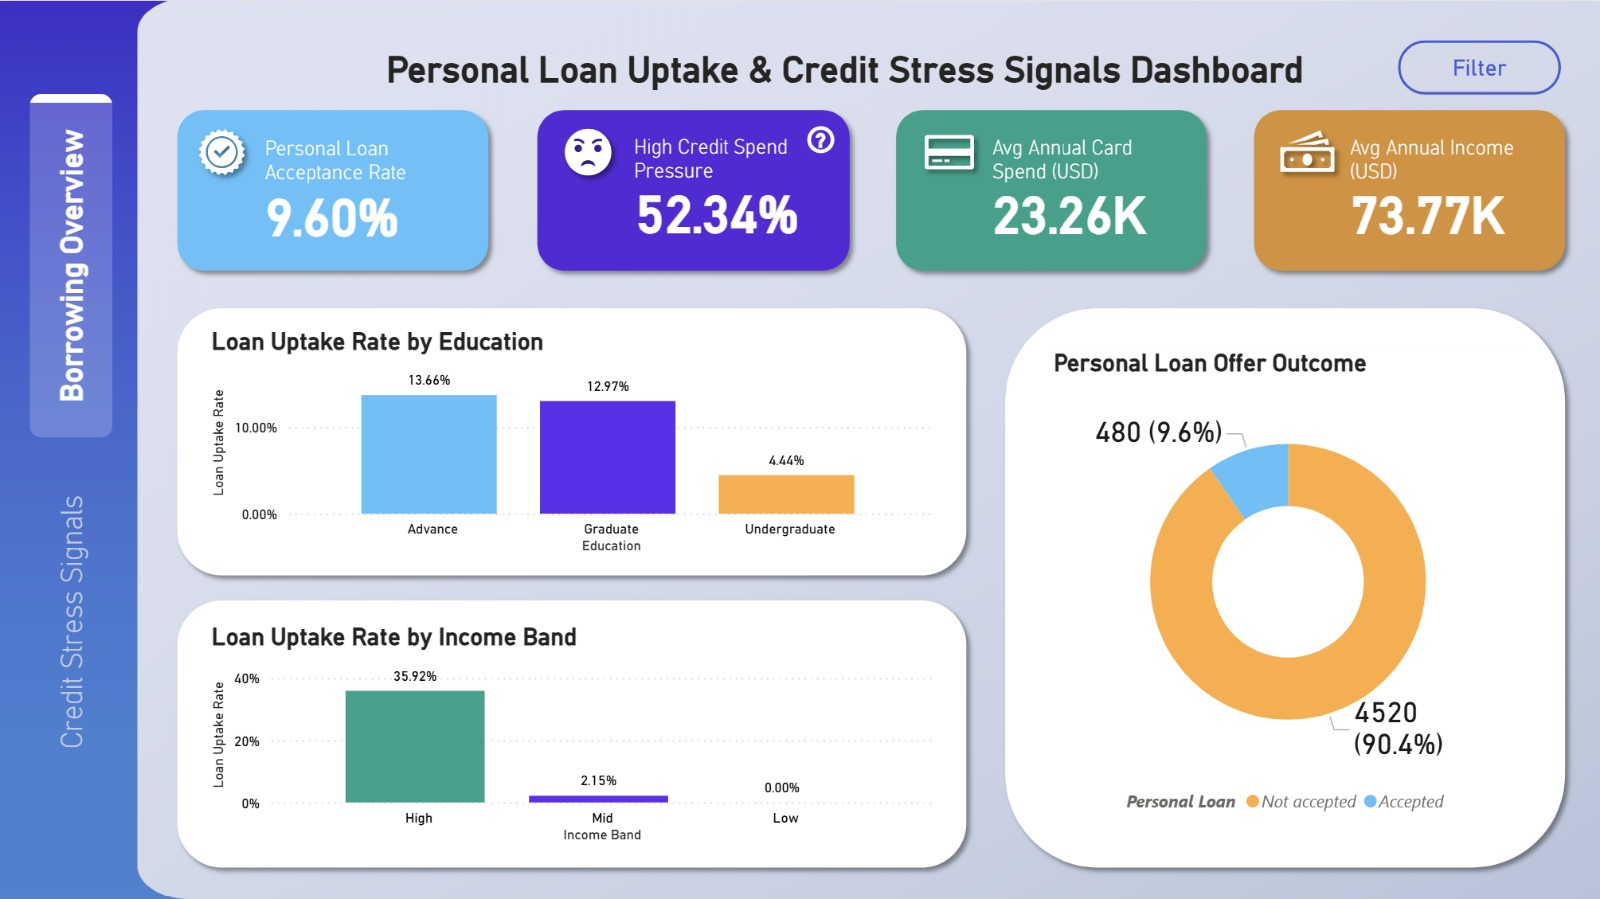

What the dashboard file says about the page in this screenshot:
{"tool":"powerbi","page":{"name":"Borrowing Overview","canvas":[1280,720],"ordinal":0},"visuals":[{"type":"cardVisual","fields":{"Data":["Bank_Personal_Loan_Modelling(1).Loan Uptake Rate"]},"box":[183.3,91.7,198.3,121.7],"z":0},{"type":"cardVisual","fields":{"Data":["Bank_Personal_Loan_Modelling(1).Avg Income"]},"box":[1048.3,90,196.7,121.7],"z":1000},{"type":"cardVisual","fields":{"Data":["Bank_Personal_Loan_Modelling(1).Avg CC Annual"]},"box":[763.3,90,196.7,121.7],"z":2000},{"type":"cardVisual","title":"Annual card spend >30% of income","fields":{"Data":["Bank_Personal_Loan_Modelling(1).Pct High CC Pressure"]},"box":[476.7,86.7,198.3,125],"z":3000},{"type":"donutChart","title":"Personal Loan Offer Outcome","fields":{"Category":["Bank_Personal_Loan_Modelling(1).Loan Label"],"Y":["Bank_Personal_Loan_Modelling(1).Customers"]},"box":[835,276.7,385,380],"z":4000},{"type":"clusteredColumnChart","fields":{"Y":["Bank_Personal_Loan_Modelling(1).Loan Uptake Rate"],"Category":["Bank_Personal_Loan_Modelling(1).Income Band"]},"box":[165,495,585,180],"z":5000},{"type":"clusteredColumnChart","fields":{"Category":["Bank_Personal_Loan_Modelling(1).Education"],"Y":["Bank_Personal_Loan_Modelling(1).Loan Uptake Rate"]},"box":[164.5,259.7,585.5,185.5],"z":6000},{"type":"pageNavigator","box":[24.2,74.2,66.1,558.1],"z":7000},{"type":"textbox","box":[283.9,32.3,780.6,54.8],"z":8000},{"type":"actionButton","box":[1115,31.7,130,43.3],"z":10000},{"type":"actionButton","box":[640,95.5,30,30],"z":11000}]}

Visuals, with their boxes in screenshot pixels (x1, y1, x2, y2), scaled from the page's 1280x720 canvas onto the 1600x899 screenshot:
cardVisual - Bank_Personal_Loan_Modelling(1).Loan Uptake Rate: (x1=229, y1=114, x2=477, y2=266)
cardVisual - Bank_Personal_Loan_Modelling(1).Avg Income: (x1=1310, y1=112, x2=1556, y2=264)
cardVisual - Bank_Personal_Loan_Modelling(1).Avg CC Annual: (x1=954, y1=112, x2=1200, y2=264)
"Annual card spend >30% of income" cardVisual: (x1=596, y1=108, x2=844, y2=264)
"Personal Loan Offer Outcome" donutChart: (x1=1044, y1=345, x2=1525, y2=820)
clusteredColumnChart - Bank_Personal_Loan_Modelling(1).Loan Uptake Rate x Bank_Personal_Loan_Modelling(1).Income Band: (x1=206, y1=618, x2=938, y2=843)
clusteredColumnChart - Bank_Personal_Loan_Modelling(1).Education x Bank_Personal_Loan_Modelling(1).Loan Uptake Rate: (x1=206, y1=324, x2=938, y2=556)
pageNavigator: (x1=30, y1=93, x2=113, y2=789)
textbox: (x1=355, y1=40, x2=1331, y2=109)
actionButton: (x1=1394, y1=40, x2=1556, y2=94)
actionButton: (x1=800, y1=119, x2=838, y2=157)
